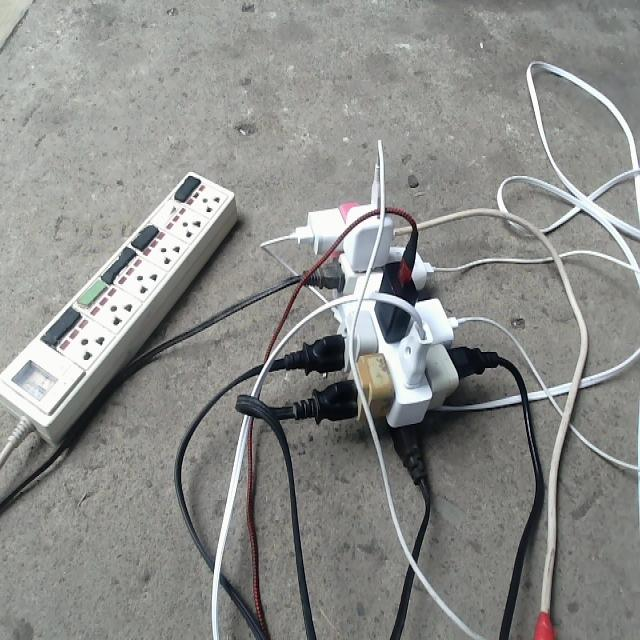-: (278, 155, 502, 496)
